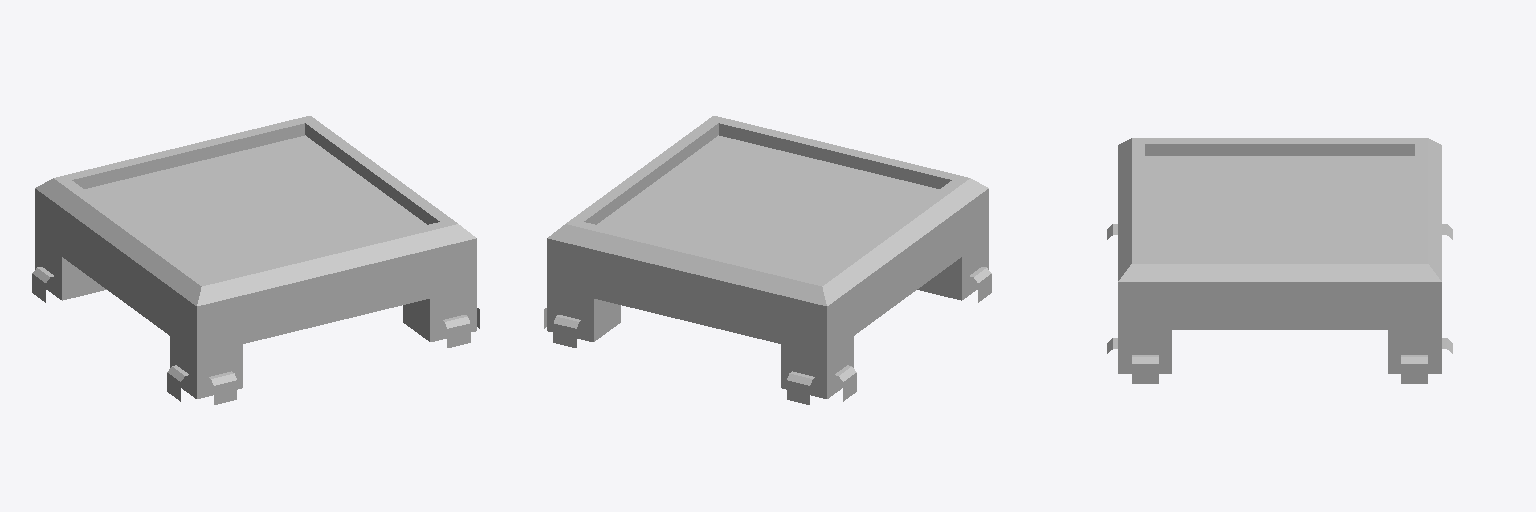
Rendered from modelComponentEvent.obj.
3 renders of one model, left to right at view 1: azimuth 30°, elevation 25°; view 2: azimuth 150°, elevation 25°; view 3: azimuth 270°, elevation 25°, orthographic.
Visible parts, largest first — view 1: EventComponent001, Image, Legs; view 2: EventComponent001, Image, Legs; view 3: EventComponent001, Image, Legs.
Part boxes in pixels (left/top/right/bottom): EventComponent001: left=35, top=116, right=476, bottom=398; Image: left=85, top=135, right=426, bottom=278; Legs: left=32, top=267, right=479, bottom=404; EventComponent001: left=547, top=116, right=988, bottom=398; Image: left=597, top=135, right=938, bottom=278; Legs: left=544, top=267, right=991, bottom=404; EventComponent001: left=1118, top=138, right=1441, bottom=373; Image: left=1145, top=156, right=1414, bottom=257; Legs: left=1107, top=224, right=1452, bottom=383.
Size of the model in its own units: 6.4 by 2.25 by 6.4.